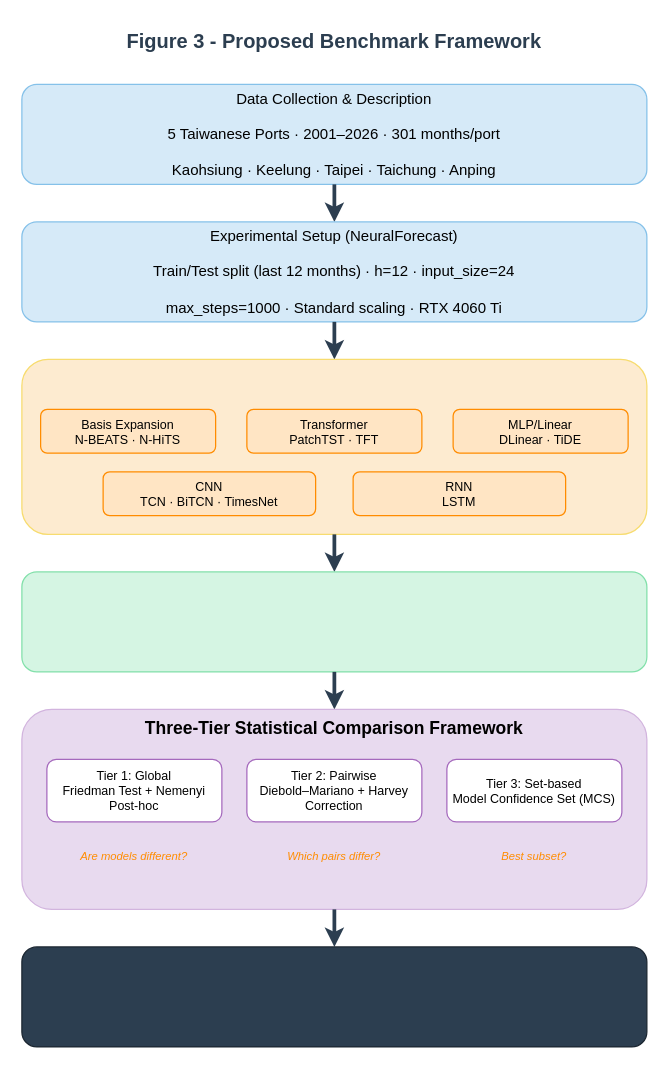
The diagram is 669 pixels wide and 1069 high, and some of its shapes have lost their labels. The box of each missing label's shape, as (x1, y1, x2, y2) in pixels:
10 Deep Learning Models × 5 Architectural Families: (21, 358, 647, 534)
Evaluation Metrics MAE · RMSE · MAPE · SMAPE · R²: (21, 571, 647, 672)
Results: Model Rankings · Port-Specific Guidelines · Best Model Set: (21, 946, 647, 1047)
